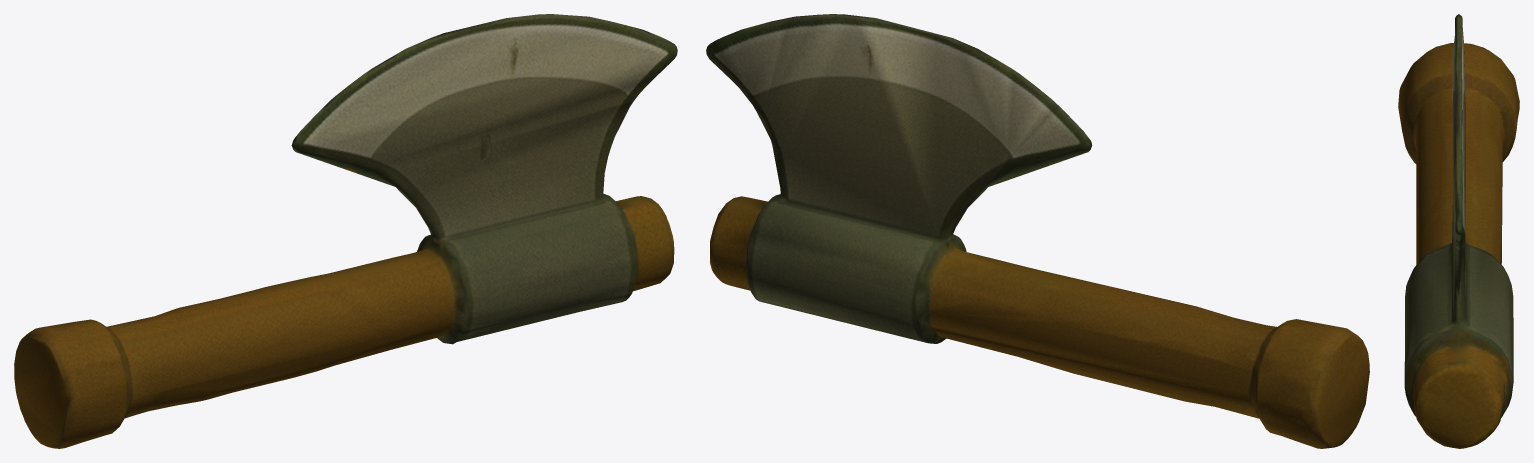
Rendered from item_axe_1h.glb.
3 views of the same model, side by side, from view 1: azimuth 30°, elevation 25°; view 2: azimuth 150°, elevation 25°; view 3: azimuth 270°, elevation 25° (orthographic). The views are drawn at different scales.
Visible parts, largest first — view 1: axe; view 2: axe; view 3: axe.
Part boxes in pixels (x1=…): axe: x1=14, y1=14, x2=677, y2=448; axe: x1=706, y1=14, x2=1369, y2=448; axe: x1=1398, y1=14, x2=1519, y2=448.
Size of the model in its own units: 2.11 by 0.9942 by 0.3334.
1 material, 1 textured.
